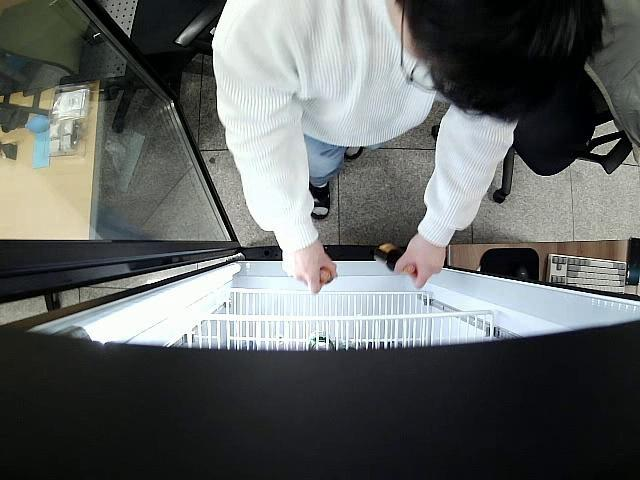17_vita500: (375, 243, 416, 277), (316, 267, 336, 287)
